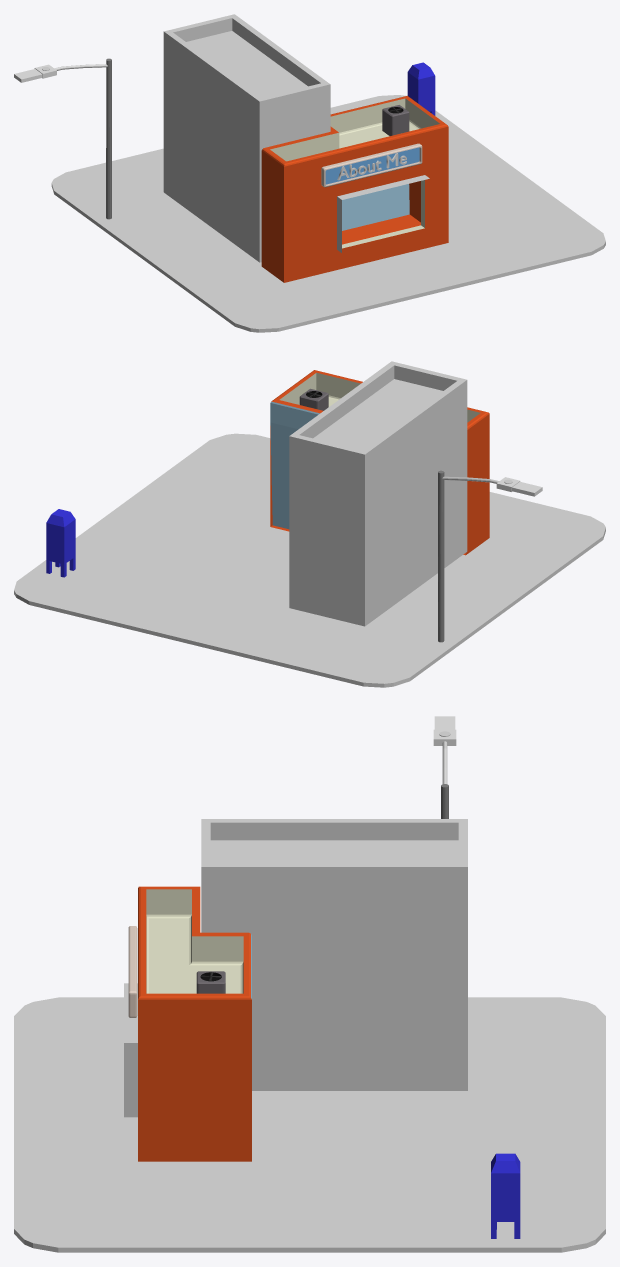
Rendered from PortfolioBlock.glb.
3 renders of one model, top to bottom at view 1: azimuth 30°, elevation 25°; view 2: azimuth 150°, elevation 25°; view 3: azimuth 270°, elevation 25°, orthographic. The views are drawn at different scales.
Parts seen in each view (by area): view 1: Cube, Cube.001, Cube.002, Sign Frame, Cube.003, Vertical Lamp Beam, Cube.005, Cube.004, About Me, Lamp Head; view 2: Cube, Cube.001, Cube.002, Cube.003, Vertical Lamp Beam, Lamp Head, Cube.004; view 3: Cube, Cube.001, Cube.002, Cube.003, Cube.005, Sign Frame.
Part boxes in pixels (box(x1,y1,x2,y2)): Cube: box(51, 95, 605, 332); Cube.001: box(163, 14, 330, 262); Cube.002: box(261, 96, 448, 282); Sign Frame: box(321, 143, 422, 187); Cube.003: box(407, 62, 435, 115); Vertical Lamp Beam: box(106, 58, 111, 219); Cube.005: box(337, 175, 429, 252); Cube.004: box(382, 105, 409, 135); About Me: box(337, 153, 406, 180); Lamp Head: box(14, 64, 56, 82); Cube: box(14, 433, 605, 687); Cube.001: box(289, 361, 467, 626); Cube.002: box(270, 370, 489, 555); Cube.003: box(46, 509, 75, 577); Vertical Lamp Beam: box(438, 470, 444, 642); Lamp Head: box(496, 477, 542, 496); Cube.004: box(299, 388, 328, 410); Cube: box(14, 997, 605, 1252); Cube.001: box(201, 819, 467, 1090); Cube.002: box(138, 886, 251, 1161); Cube.003: box(491, 1153, 520, 1238); Cube.005: box(124, 983, 137, 1117); Sign Frame: box(128, 926, 137, 1017).
Size of the model in its own units: 31.53 by 11.4 by 26.
